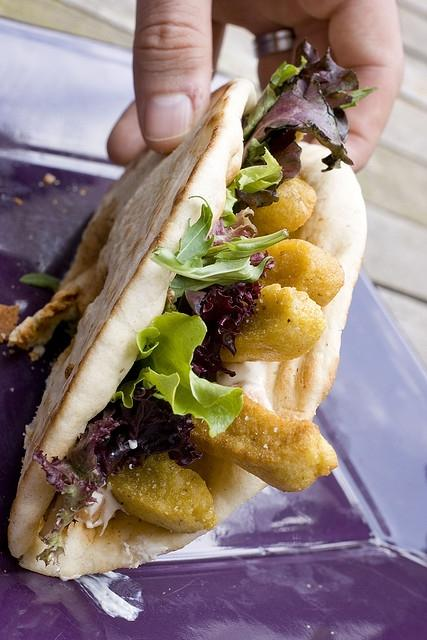lettuce: (236, 35, 359, 208), (110, 312, 245, 438), (151, 196, 290, 298), (241, 56, 307, 138), (221, 146, 283, 226), (331, 85, 379, 114), (19, 272, 60, 294)
